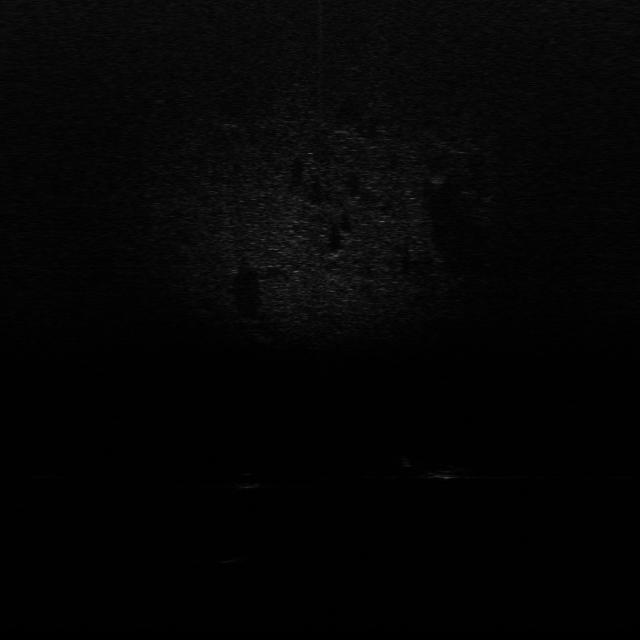ball: (238, 471, 262, 487)
circle cage: (217, 549, 256, 576)
human body: (403, 452, 479, 483)
